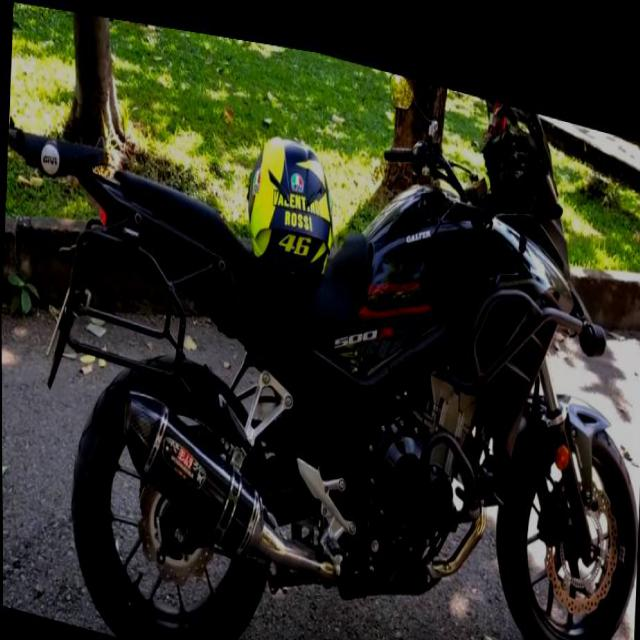CB500X: (26, 3, 640, 639)
